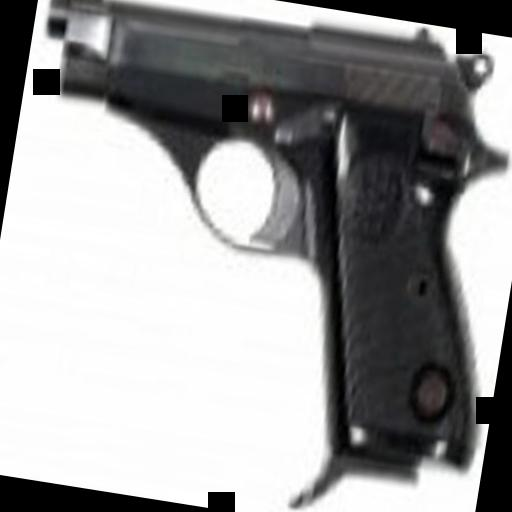Handgun: (0, 0, 512, 495)
